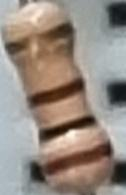Black: (37, 111, 102, 147)
Brown: (41, 138, 113, 178), (25, 76, 85, 109)
Side-Gold: (2, 20, 75, 56)
